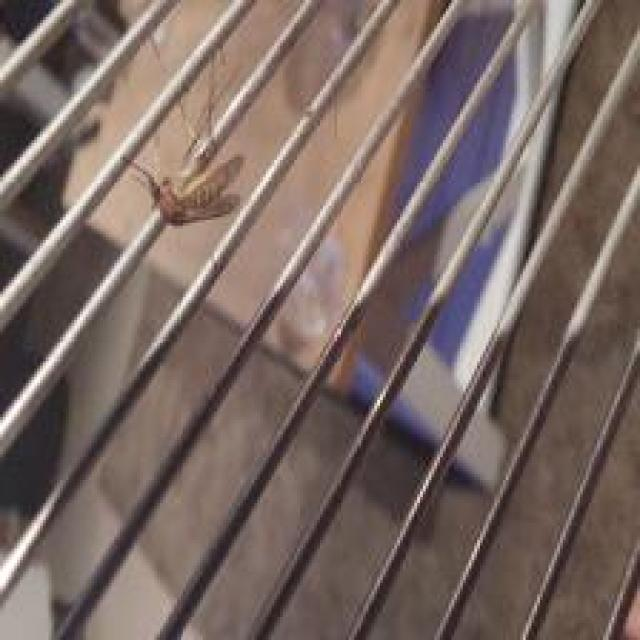Culex: (119, 45, 247, 228)
